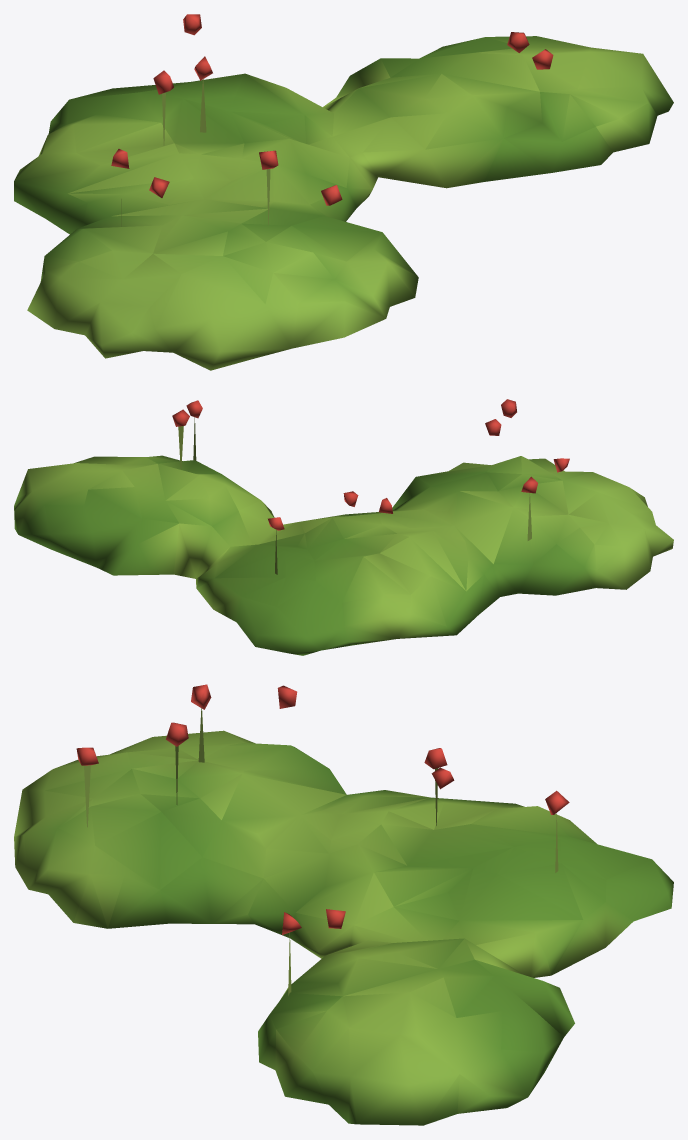
The model's file is glade_gc_moss_patch_b_lod1.glb.
3 renders of one model, top to bottom at view 1: azimuth 30°, elevation 25°; view 2: azimuth 150°, elevation 25°; view 3: azimuth 270°, elevation 25°, orthographic. The views are drawn at different scales.
Parts seen in each view (by area): view 1: glade_gc_moss_patch_b.001; view 2: glade_gc_moss_patch_b.001; view 3: glade_gc_moss_patch_b.001.
Boxes of the visible parts, x1,y1,x2,y2 form: glade_gc_moss_patch_b.001: [14, 14, 673, 370]; glade_gc_moss_patch_b.001: [14, 399, 673, 655]; glade_gc_moss_patch_b.001: [14, 684, 673, 1125].
Size of the model in its own units: 6.24 by 1.23 by 4.75.
